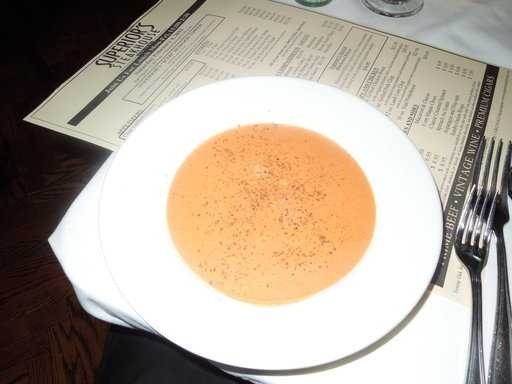soup: (154, 119, 391, 303)
